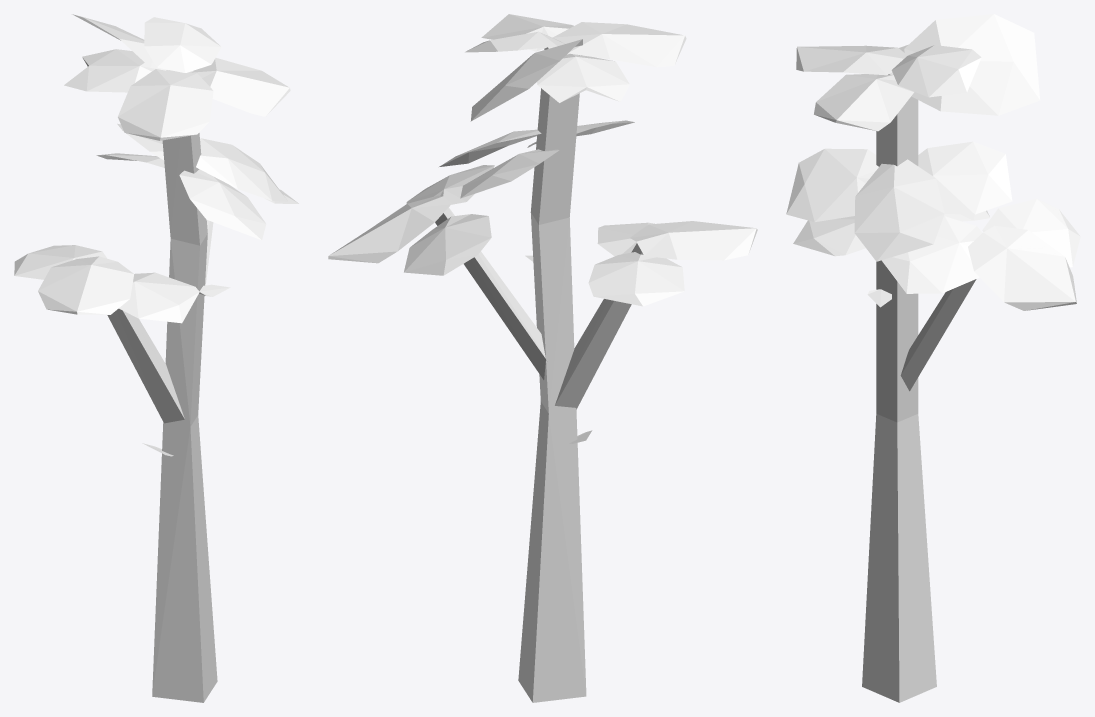
Rendered from Crop_Potato_STAGE_3_01.glb.
3 renders of one model, left to right at view 1: azimuth 30°, elevation 25°; view 2: azimuth 150°, elevation 25°; view 3: azimuth 270°, elevation 25°, orthographic. The views are drawn at different scales.
Visible parts, largest first — view 1: Crop_Potato_STAGE_3_01; view 2: Crop_Potato_STAGE_3_01; view 3: Crop_Potato_STAGE_3_01.
Boxes of the visible parts, x1,y1,x2,y2 form: Crop_Potato_STAGE_3_01: [14, 14, 298, 702]; Crop_Potato_STAGE_3_01: [328, 14, 757, 702]; Crop_Potato_STAGE_3_01: [786, 14, 1080, 702].
Size of the model in its own units: 0.3225 by 0.6928 by 0.2861.
Materials: 1 (1 with a texture image).
